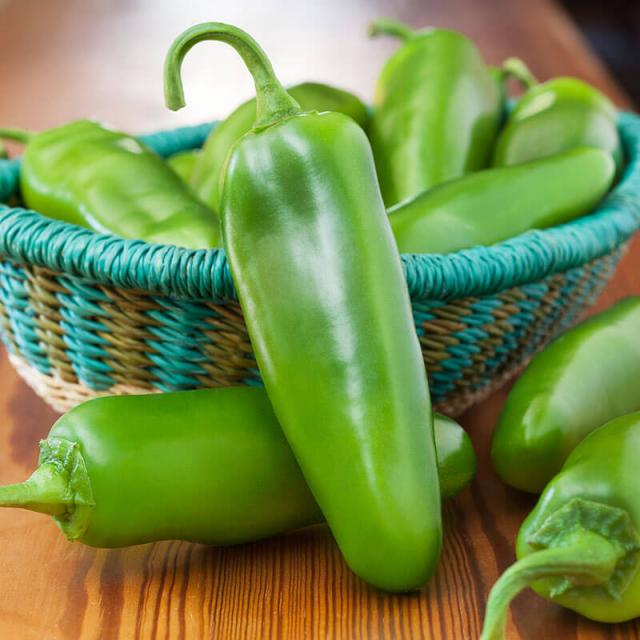aji: (191, 102, 478, 564), (19, 387, 512, 570)
